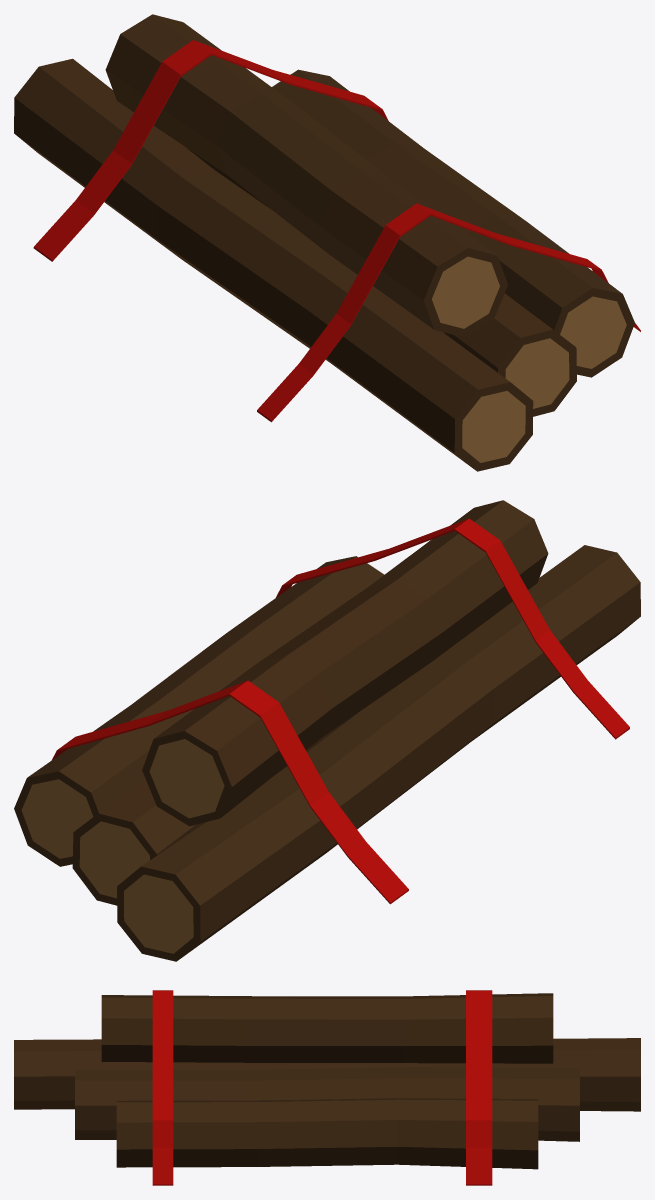
The model's file is troncos.fbx.
3 renders of one model, top to bottom at view 1: azimuth 30°, elevation 25°; view 2: azimuth 150°, elevation 25°; view 3: azimuth 270°, elevation 25°, orthographic. The views are drawn at different scales.
Visible parts, largest first — view 1: Cylinder.026; view 2: Cylinder.026; view 3: Cylinder.026.
Part boxes in pixels (bbox=[...]): Cylinder.026: bbox=[14, 14, 640, 471]; Cylinder.026: bbox=[14, 500, 640, 961]; Cylinder.026: bbox=[14, 990, 640, 1185].
Bounding box in the file's own units: 107 × 50.01 × 220.
